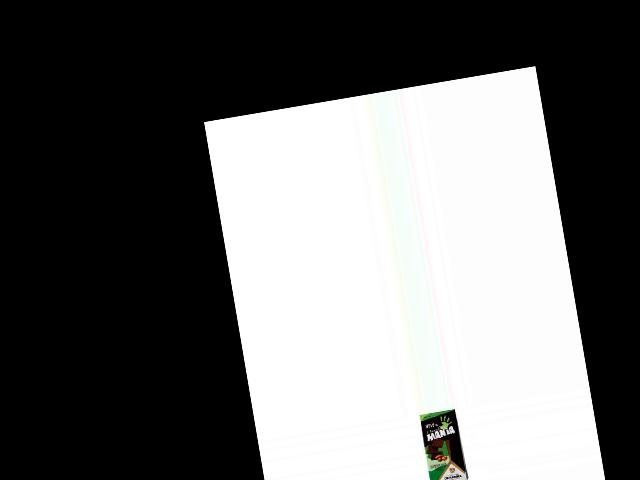chocolate: (417, 407, 469, 480)
